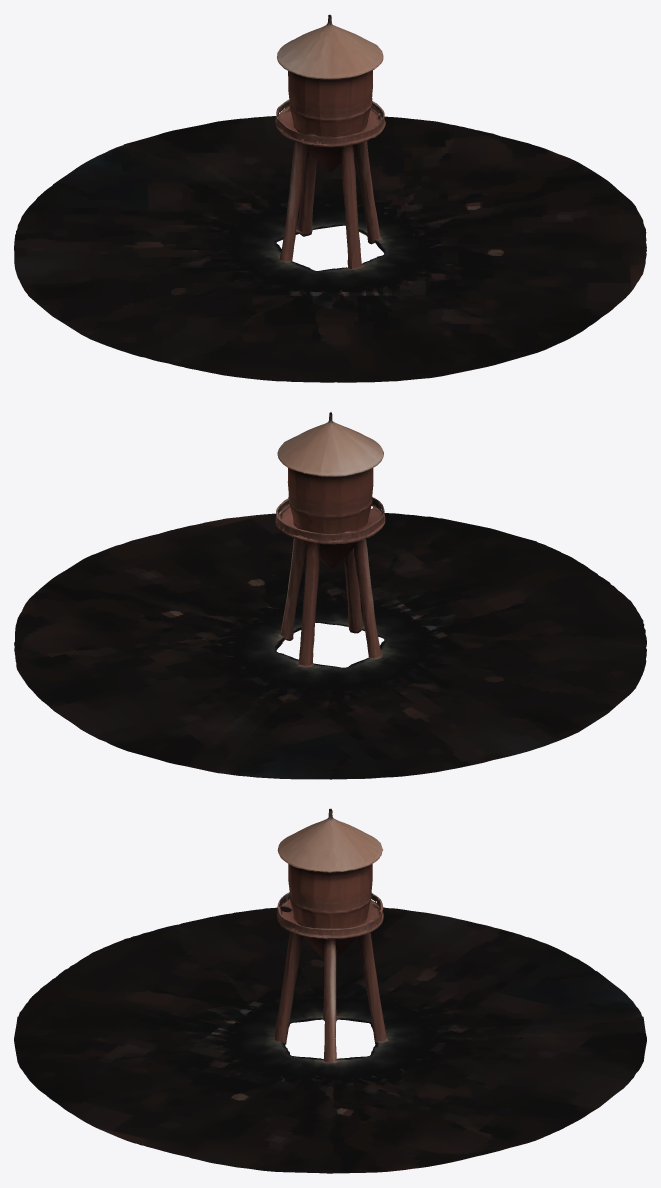
Rendered from rooftop-water-tower.glb.
The picture shows the model from 3 angles, top to bottom: view 1: azimuth 30°, elevation 25°; view 2: azimuth 150°, elevation 25°; view 3: azimuth 270°, elevation 25°; orthographic projection.
Visible parts, largest first — view 1: geometry_0; view 2: geometry_0; view 3: geometry_0.
Boxes of the visible parts, x1=… form: geometry_0: x1=14, y1=14, x2=646, y2=382; geometry_0: x1=14, y1=412, x2=646, y2=779; geometry_0: x1=14, y1=808, x2=646, y2=1173.
Bounding box in the file's own units: 0.9994 × 0.4096 × 0.9995.
Materials: 1 (1 with a texture image).
